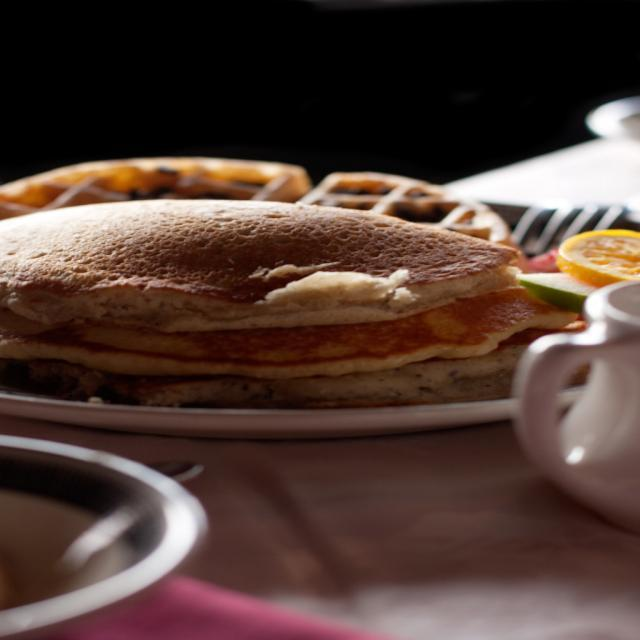Pancake: (0, 196, 512, 328)
